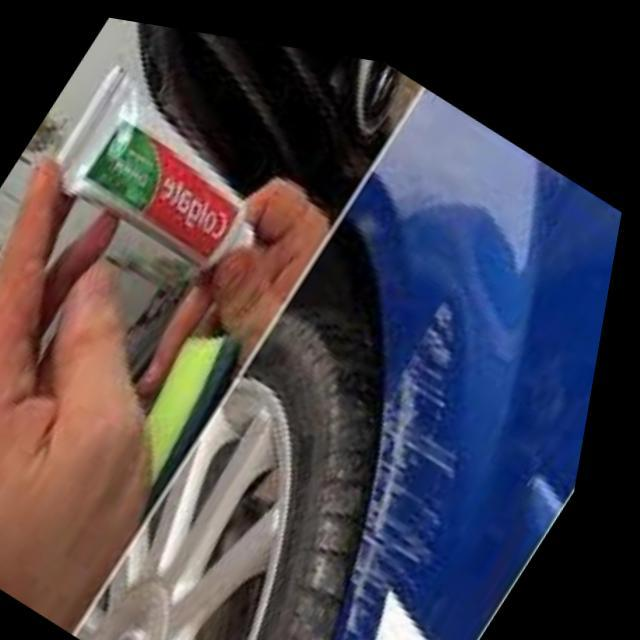rub: (353, 279, 471, 640)
